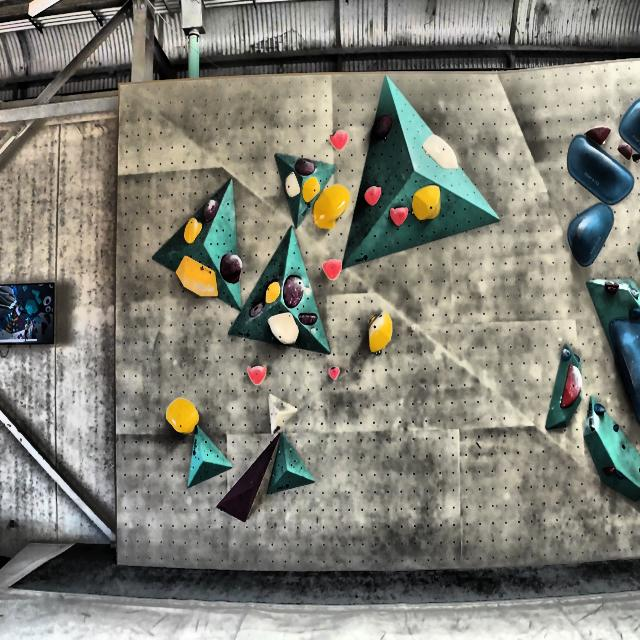Hold: (219, 436, 282, 525), (565, 133, 636, 204), (604, 314, 640, 422), (568, 206, 615, 268), (308, 183, 350, 236), (170, 258, 221, 298), (422, 134, 461, 170), (162, 399, 202, 434), (409, 184, 444, 223), (266, 311, 300, 348), (367, 312, 393, 360), (563, 364, 582, 409), (220, 251, 245, 284), (282, 274, 306, 308), (288, 154, 318, 176), (301, 176, 320, 208), (264, 277, 282, 309), (586, 124, 616, 143), (326, 132, 351, 154), (280, 173, 301, 198), (362, 184, 382, 210), (372, 114, 391, 141), (184, 217, 204, 242), (202, 198, 221, 224), (249, 359, 266, 388), (322, 259, 342, 282), (300, 310, 322, 328), (601, 276, 621, 295), (392, 205, 408, 228), (614, 143, 633, 160), (249, 300, 264, 320), (590, 401, 606, 416), (600, 464, 615, 477), (563, 347, 574, 362), (328, 367, 340, 378), (614, 468, 623, 482)
